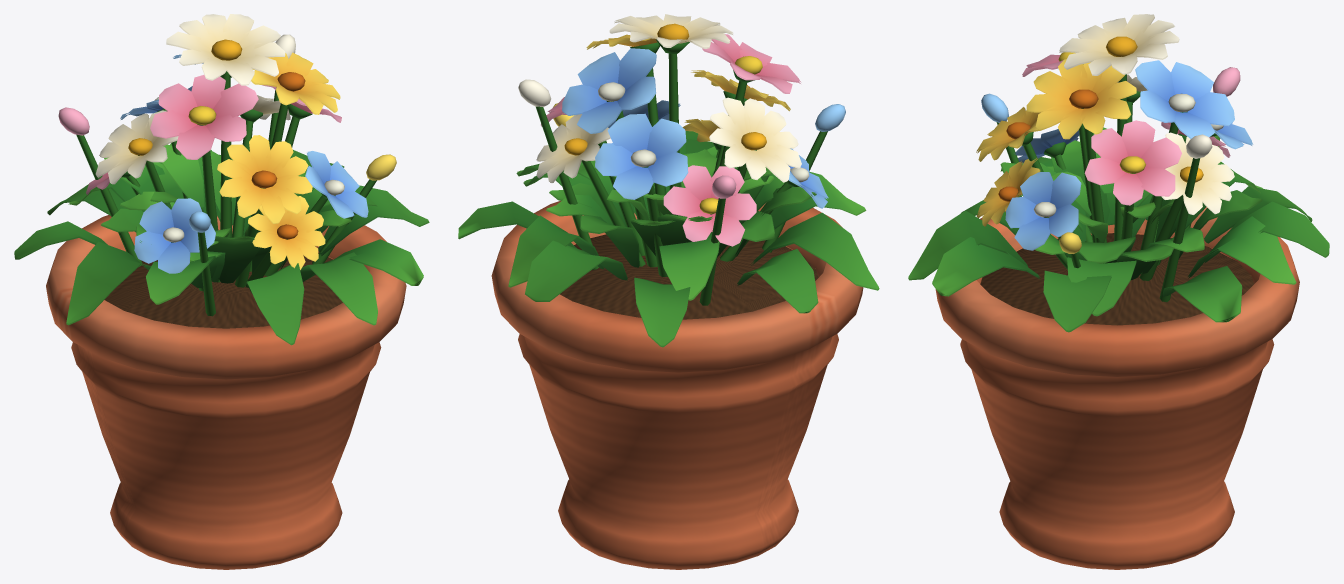
File: flower-pot.glb
3 renders of one model, left to right at view 1: azimuth 30°, elevation 25°; view 2: azimuth 150°, elevation 25°; view 3: azimuth 270°, elevation 25°, orthographic. The views are drawn at different scales.
Visible parts, largest first — view 1: flower-pot; view 2: flower-pot; view 3: flower-pot.
Part boxes in pixels (<box>): flower-pot: <box>14,14,429,569</box>; flower-pot: <box>458,14,879,569</box>; flower-pot: <box>908,14,1329,569</box>.
Bounding box in the file's own units: 0.5675 × 0.7428 × 0.5748.
Materials: 4 (2 with a texture image).
